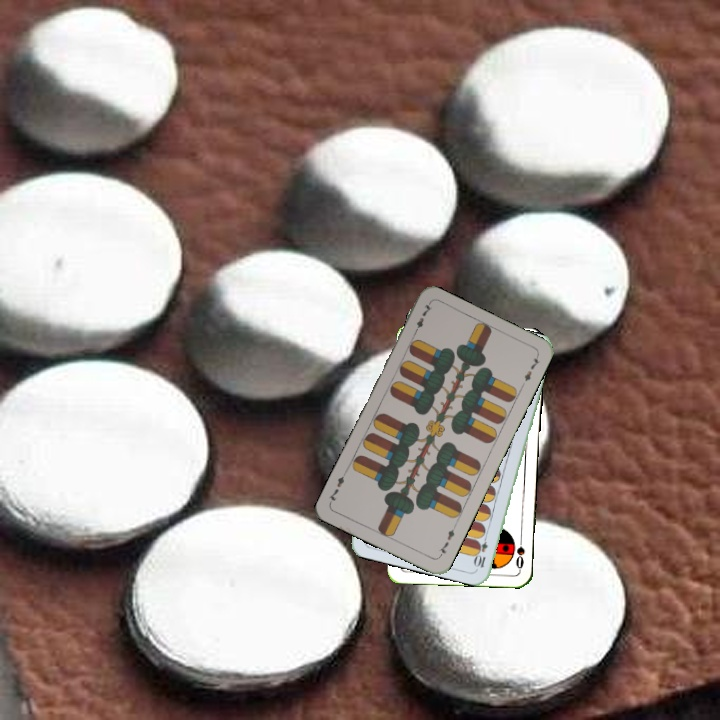E10: (472, 530, 491, 570)
E7: (409, 299, 435, 338), (434, 522, 459, 560)
SO: (511, 531, 527, 572)
